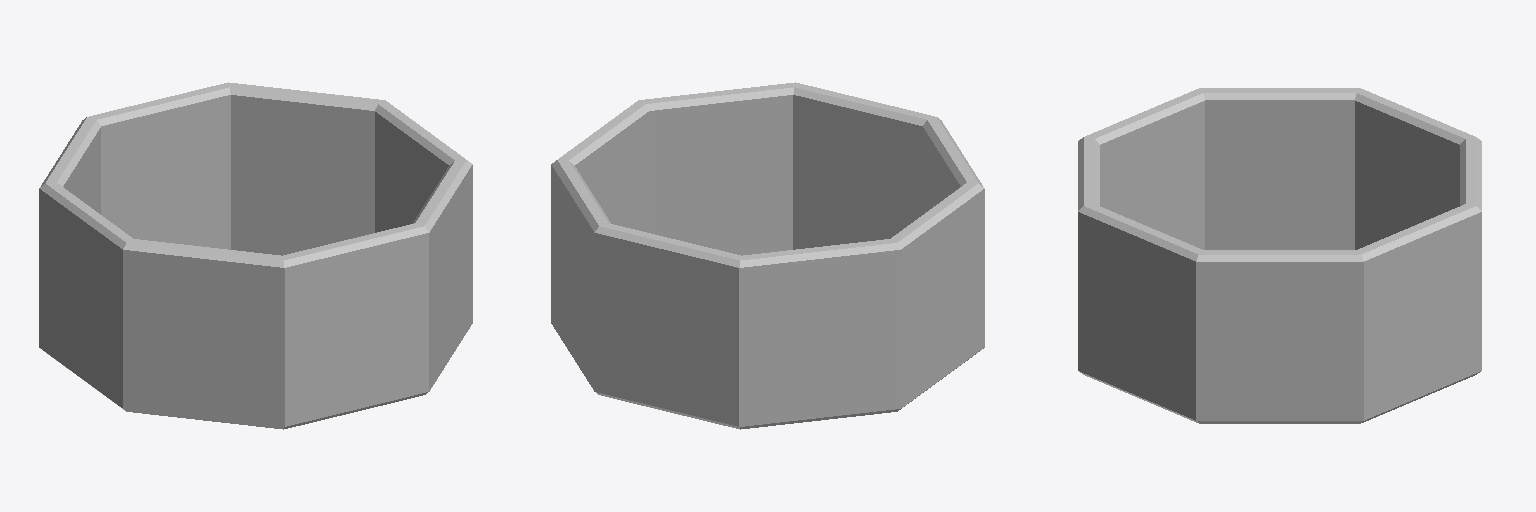
The model's file is rope low.obj.
3 views of the same model, side by side, from view 1: azimuth 30°, elevation 25°; view 2: azimuth 150°, elevation 25°; view 3: azimuth 270°, elevation 25° (orthographic).
Visible parts, largest first — view 1: pCylinder4; view 2: pCylinder4; view 3: pCylinder4.
Part boxes in pixels (x1,y1,x2,y2): pCylinder4: (39,82,472,429); pCylinder4: (551,82,984,429); pCylinder4: (1078,88,1481,423).
Bounding box in the file's own units: 0.4173 × 0.1927 × 0.4173.